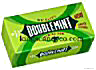grozi_6: (1, 1, 95, 67)
